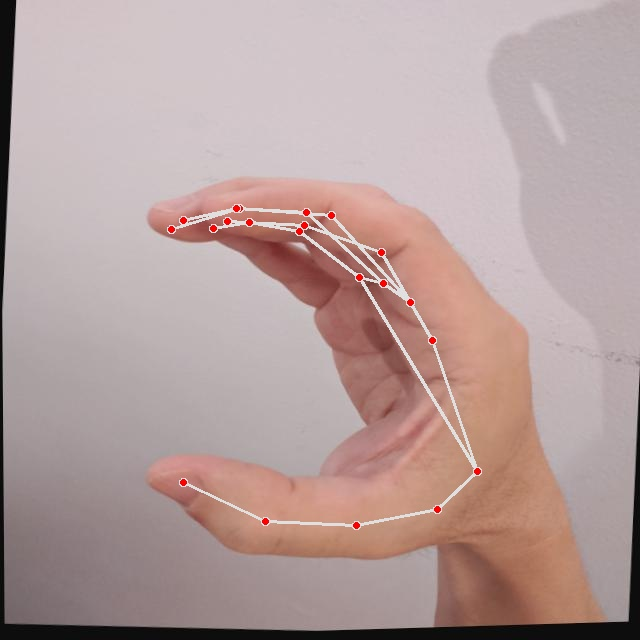C: (118, 158, 592, 587)
